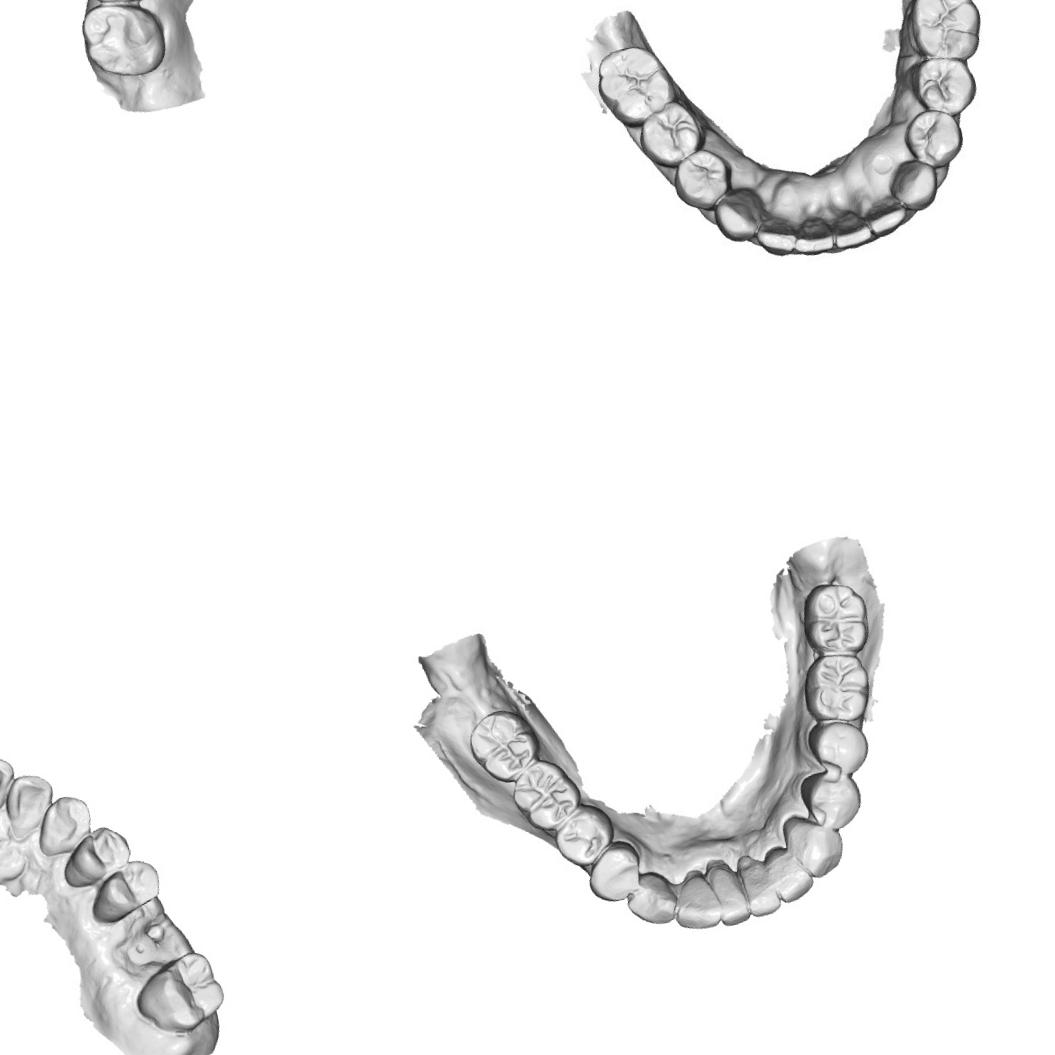canine: (28, 789, 100, 861), (780, 810, 850, 884), (620, 866, 680, 931), (714, 186, 768, 242), (892, 159, 940, 211)
incisor: (0, 767, 62, 841), (667, 866, 727, 938), (760, 840, 816, 906), (734, 848, 784, 920), (704, 860, 754, 929), (749, 211, 802, 262), (830, 206, 879, 253), (0, 740, 23, 828), (866, 196, 912, 238), (791, 213, 832, 257)
molar: (124, 944, 230, 1042), (73, 0, 172, 86), (593, 35, 677, 126), (462, 702, 547, 790), (505, 751, 588, 838), (793, 574, 876, 660), (795, 648, 877, 730), (904, 0, 988, 63)
premolar: (80, 852, 168, 928), (53, 820, 137, 893), (667, 139, 739, 212), (549, 799, 620, 870), (634, 99, 706, 169), (912, 46, 982, 118), (796, 763, 866, 834), (803, 714, 875, 782), (581, 838, 645, 907), (902, 103, 963, 170)
